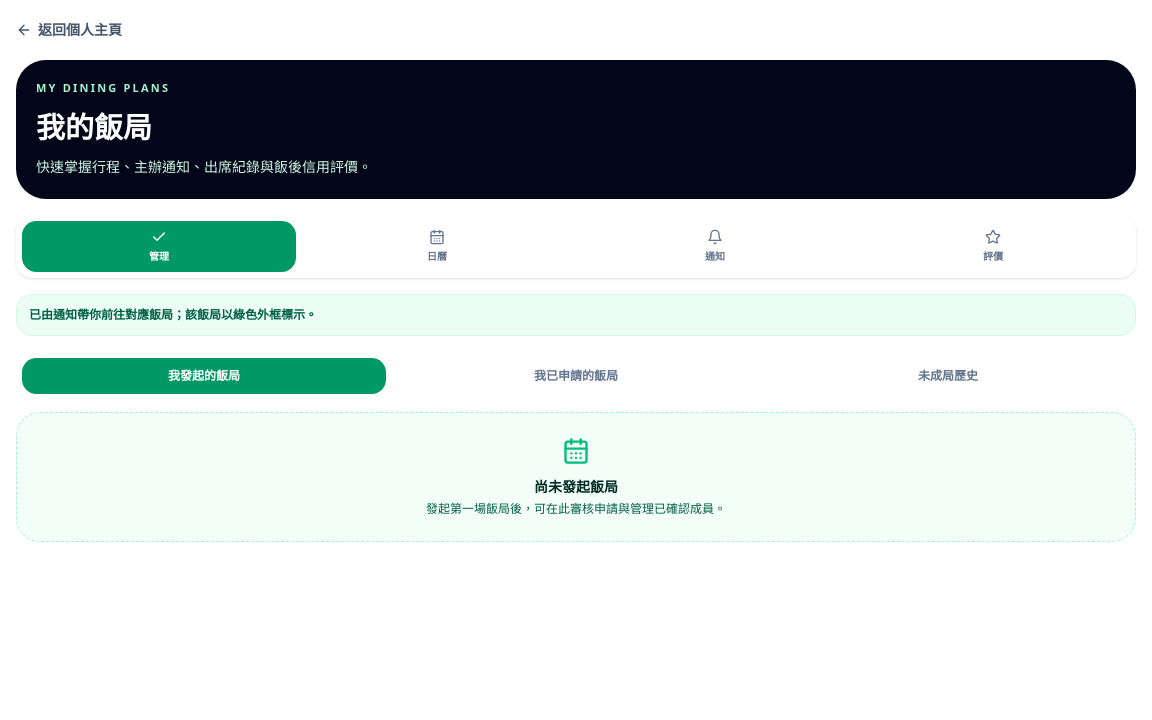
Test: MyEventsManagement 進階飯局管理 › 逾時未成局飯局會移至歷史分類，不再混入可管理飯局
Expected: the text "尚未發起飯局" is shown, [534,477,618,496]
Click the button "未成局歷史": point(948, 376) [766,358,1130,394]
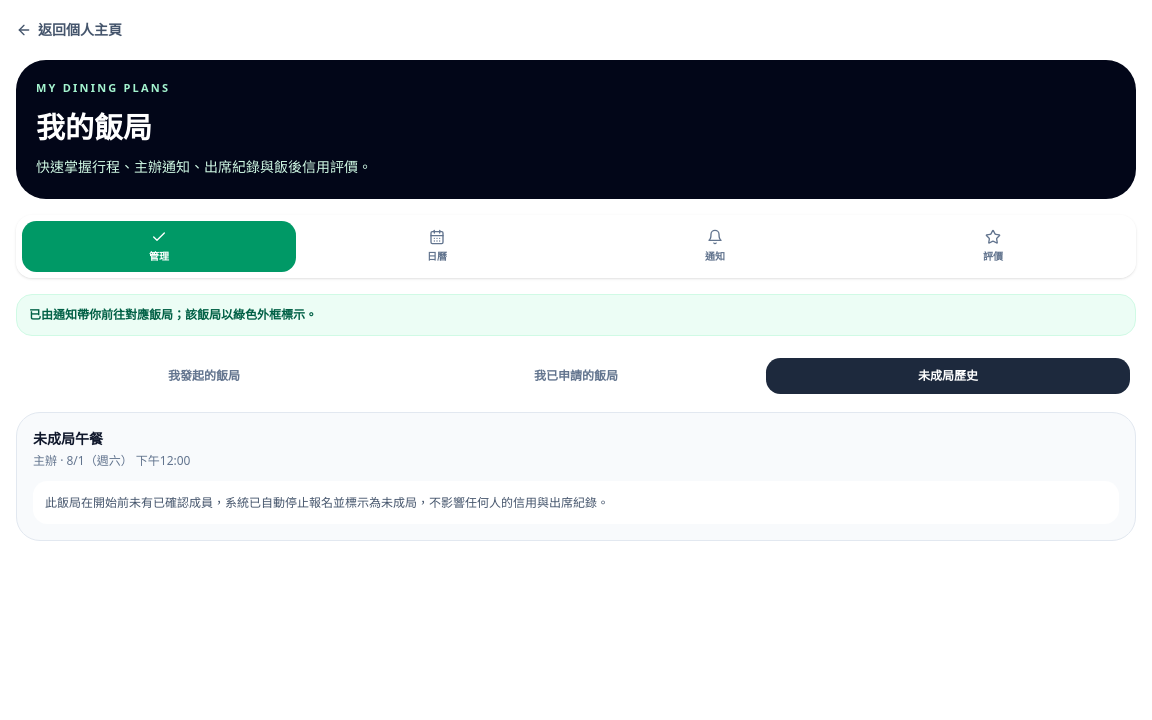
Expected: the text "未成局午餐" is shown, [33,429,103,448]
Expected: the text "此飯局在開始前未有已確認成員，系統已自動停止報名並標示為未成局，不影響任何人的信用與出席紀錄。" is shown, [33,481,1119,524]
